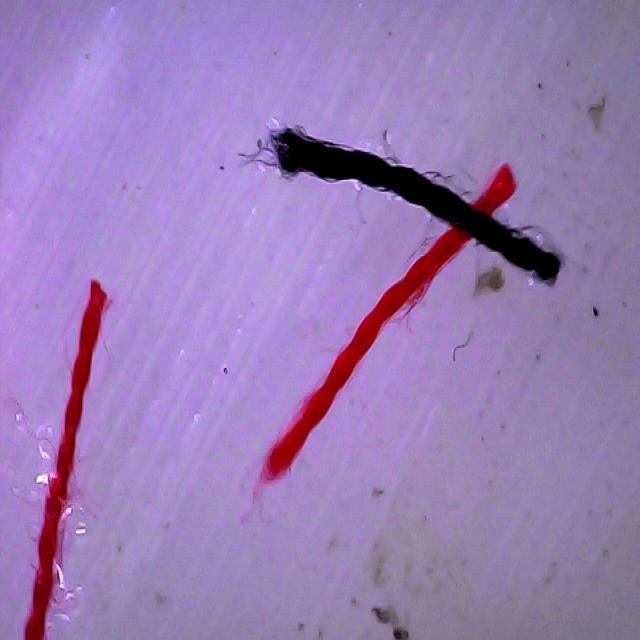fibers: (245, 216, 471, 491), (257, 117, 577, 285), (19, 278, 110, 640)
